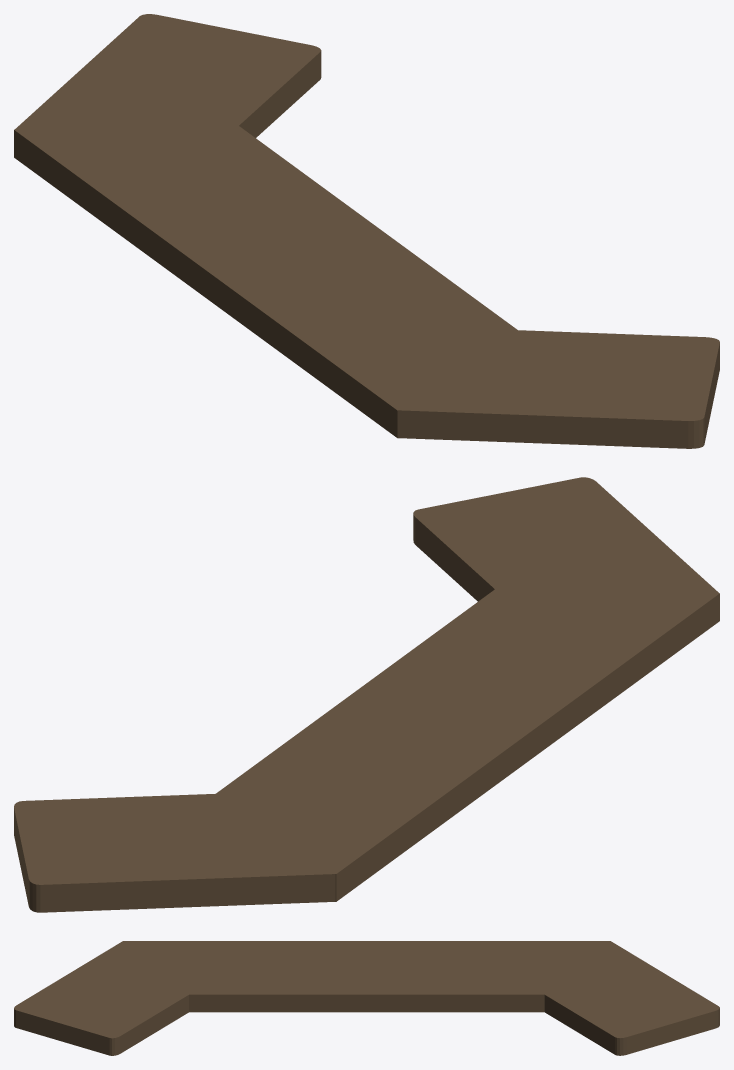
Rendered from Communication-table2.glb.
3 renders of one model, top to bottom at view 1: azimuth 30°, elevation 25°; view 2: azimuth 150°, elevation 25°; view 3: azimuth 270°, elevation 25°, orthographic. The views are drawn at different scales.
Visible parts, largest first — view 1: Cube.002; view 2: Cube.002; view 3: Cube.002.
Part boxes in pixels (x1=…): Cube.002: x1=14, y1=14, x2=719, y2=448; Cube.002: x1=14, y1=477, x2=719, y2=912; Cube.002: x1=14, y1=941, x2=719, y2=1055.
Size of the model in its own units: 4.72 by 0.4 by 14.46.
